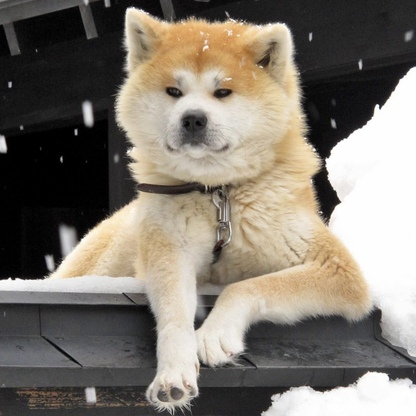akita: (41, 3, 378, 413)
